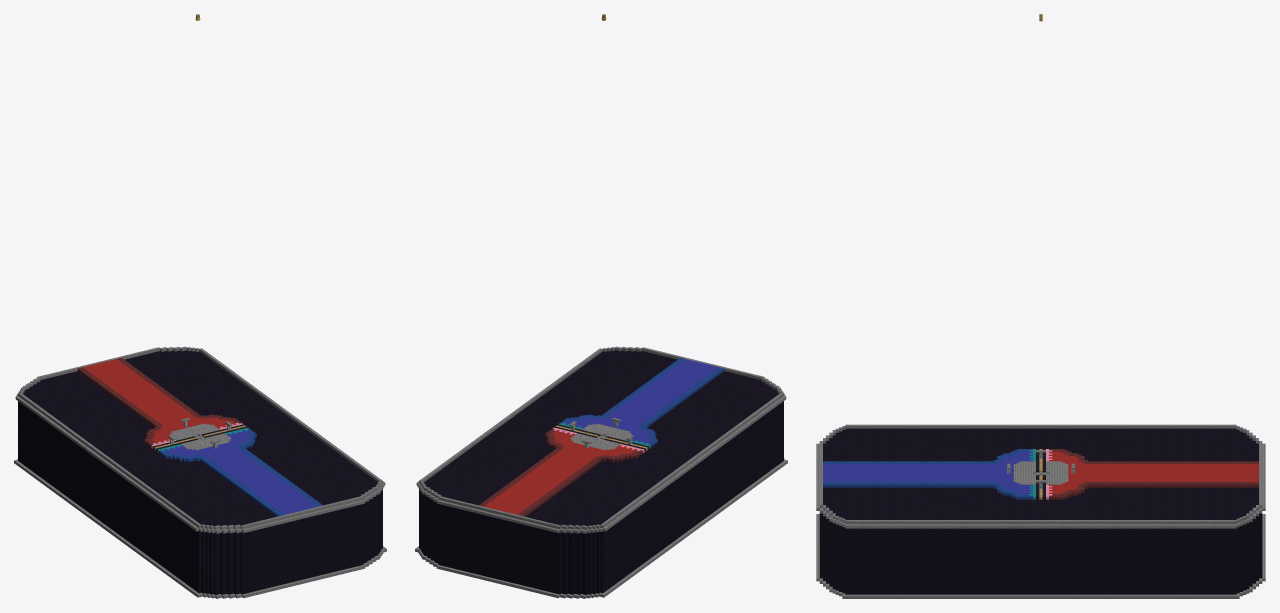
The model's file is minecraft.obj.
3 views of the same model, side by side, from view 1: azimuth 30°, elevation 25°; view 2: azimuth 150°, elevation 25°; view 3: azimuth 270°, elevation 25° (orthographic). The views are drawn at different scales.
Size of the model in its own units: 73 by 182 by 139.
